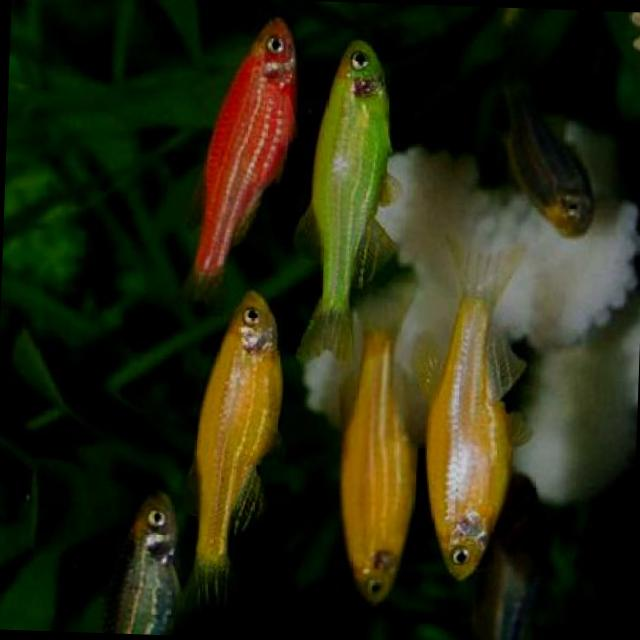ZebraFish: (173, 286, 295, 622), (168, 9, 300, 304), (298, 34, 394, 356), (420, 286, 522, 580), (334, 328, 424, 611)
